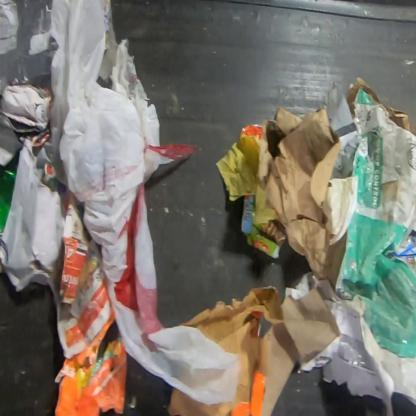cardboard: (169, 285, 343, 415), (257, 106, 358, 288), (345, 77, 412, 133), (241, 193, 285, 262), (382, 233, 415, 283)
metal: (238, 119, 264, 140)
rigid_plastic: (0, 165, 18, 234)
soft_plastic: (45, 0, 239, 407), (0, 1, 58, 95)
